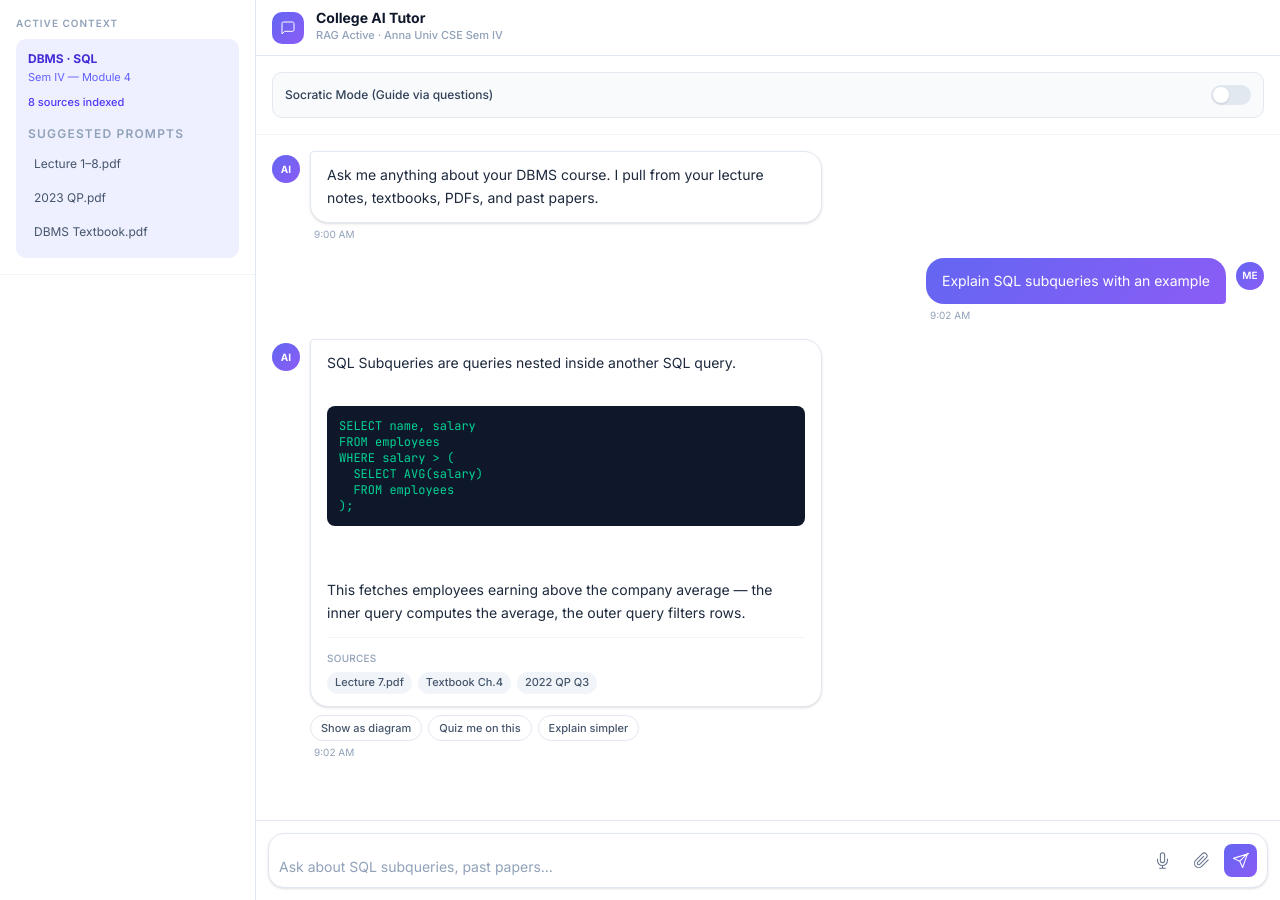
Student Screens & Interactive Navigation Test Suite › AITutor Component › submits a question via input textarea and displays AI reply
Step 1. Type "What is a database transaction?" into the text box with placeholder "Ask about SQL subqueries, past papers…" → [708, 867], box x1=279 y1=857 x2=1138 y2=877
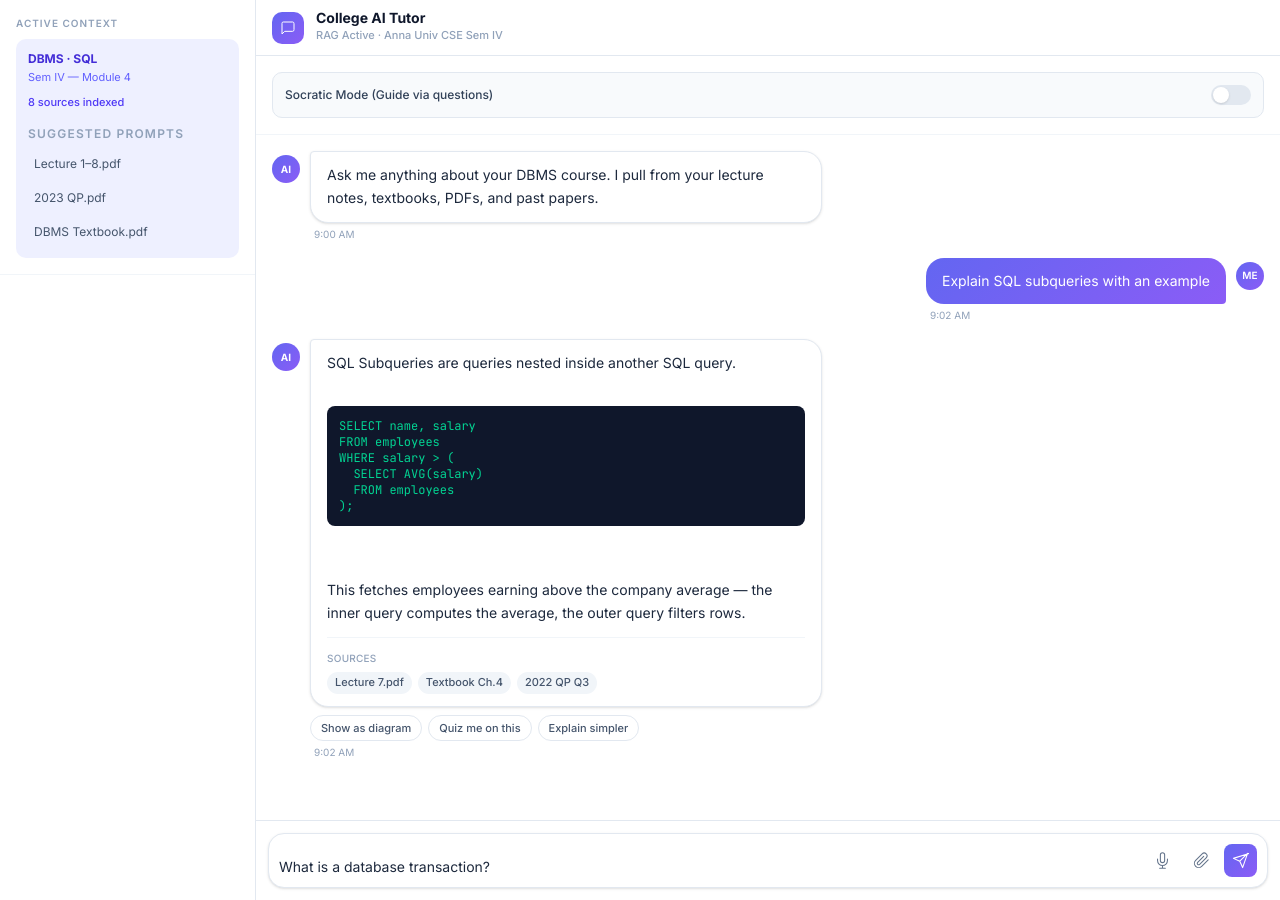
Step 2. Press Enter in the text box with placeholder "Ask about SQL subqueries, past papers…", box x1=279 y1=857 x2=1138 y2=877
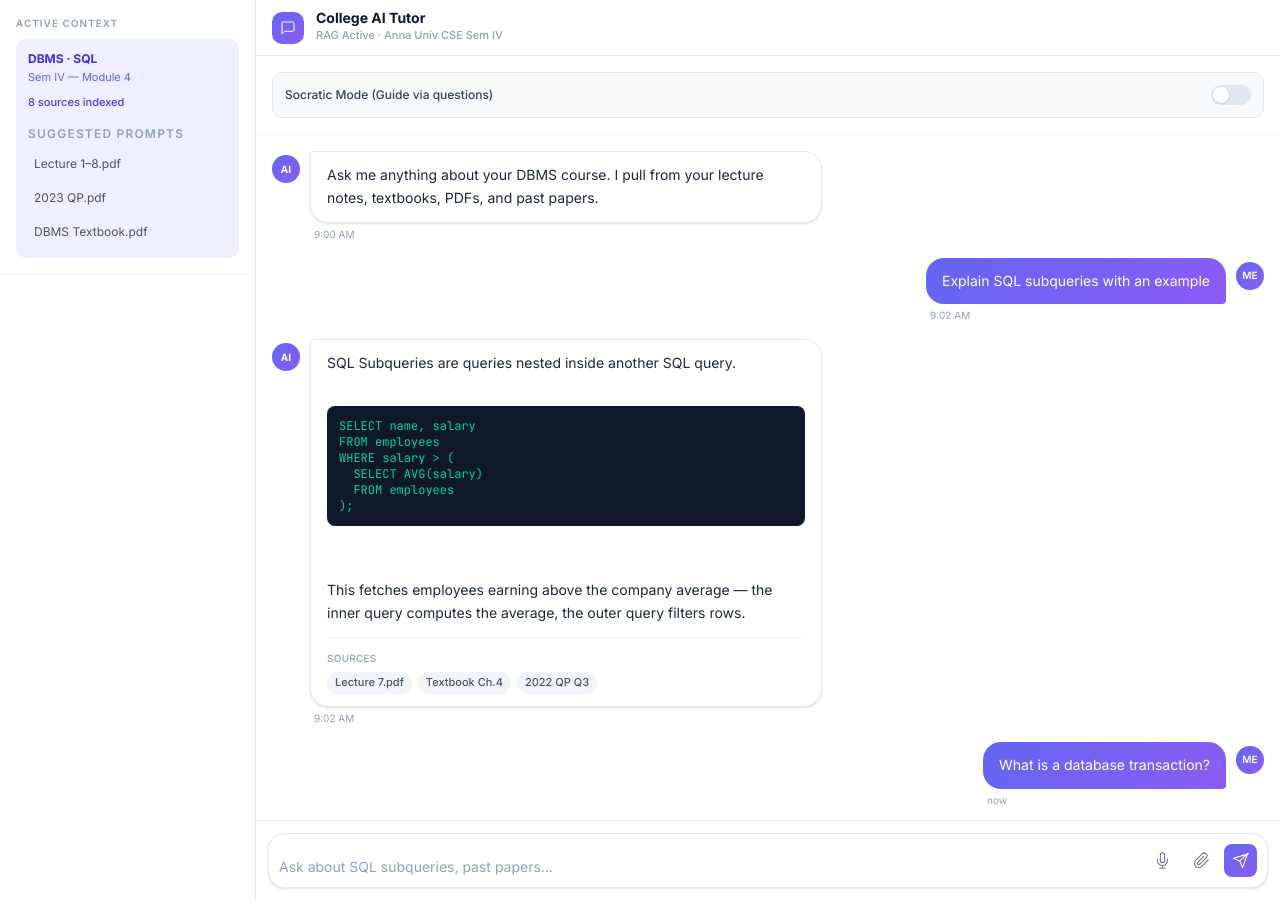
Now the text "What is a database transaction?" is shown, box x1=999 y1=756 x2=1210 y2=773
